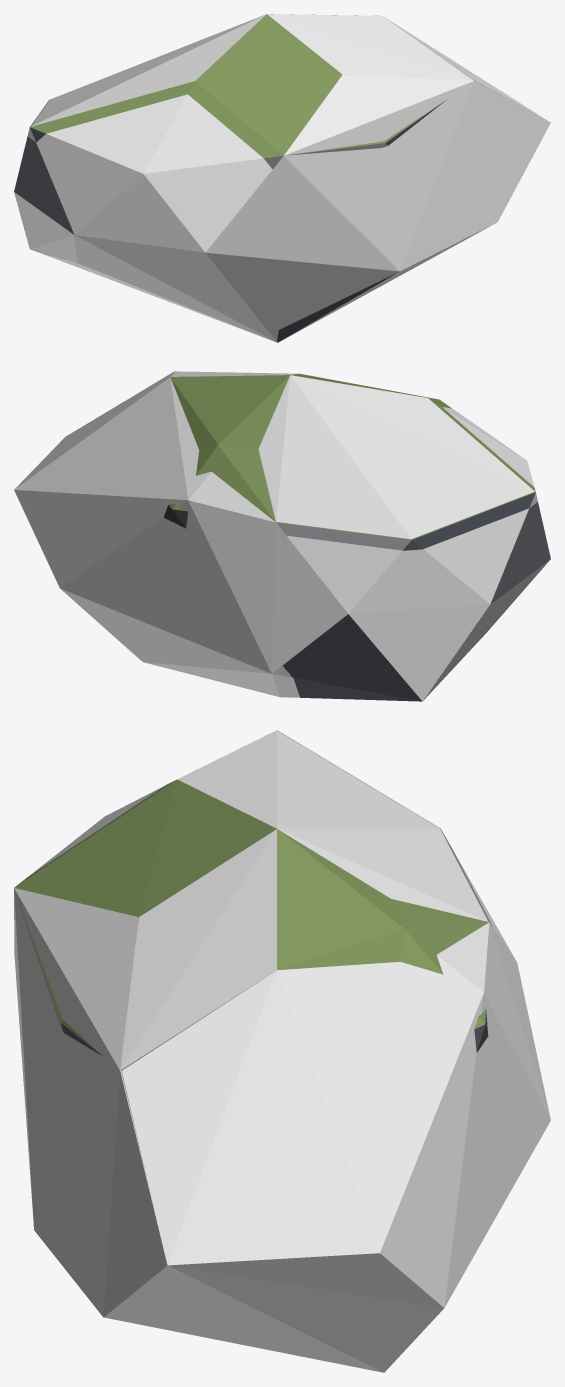
Rendered from rock_valley_1.glb.
3 renders of one model, top to bottom at view 1: azimuth 30°, elevation 25°; view 2: azimuth 150°, elevation 25°; view 3: azimuth 270°, elevation 25°, orthographic. The views are drawn at different scales.
Visible parts, largest first — view 1: rock_valley_1_col, rock_valley_1; view 2: rock_valley_1_col, rock_valley_1; view 3: rock_valley_1_col, rock_valley_1.
Part boxes in pixels (x1,y1,x2,y2): rock_valley_1_col: (14, 14, 550, 342); rock_valley_1: (14, 14, 528, 342); rock_valley_1_col: (14, 371, 550, 701); rock_valley_1: (132, 371, 550, 701); rock_valley_1_col: (14, 730, 550, 1372); rock_valley_1: (14, 730, 492, 1317).
Size of what is drawn, in the model's own units: 2.74 by 1.5 by 1.6.
